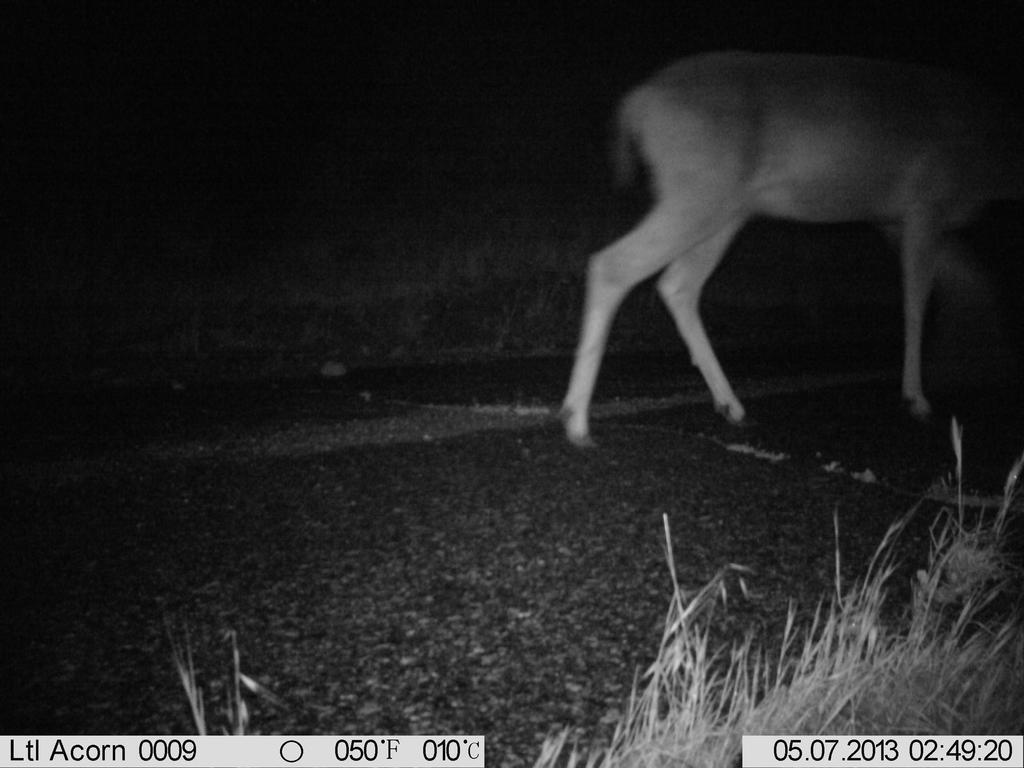deer: (535, 33, 1024, 463)
